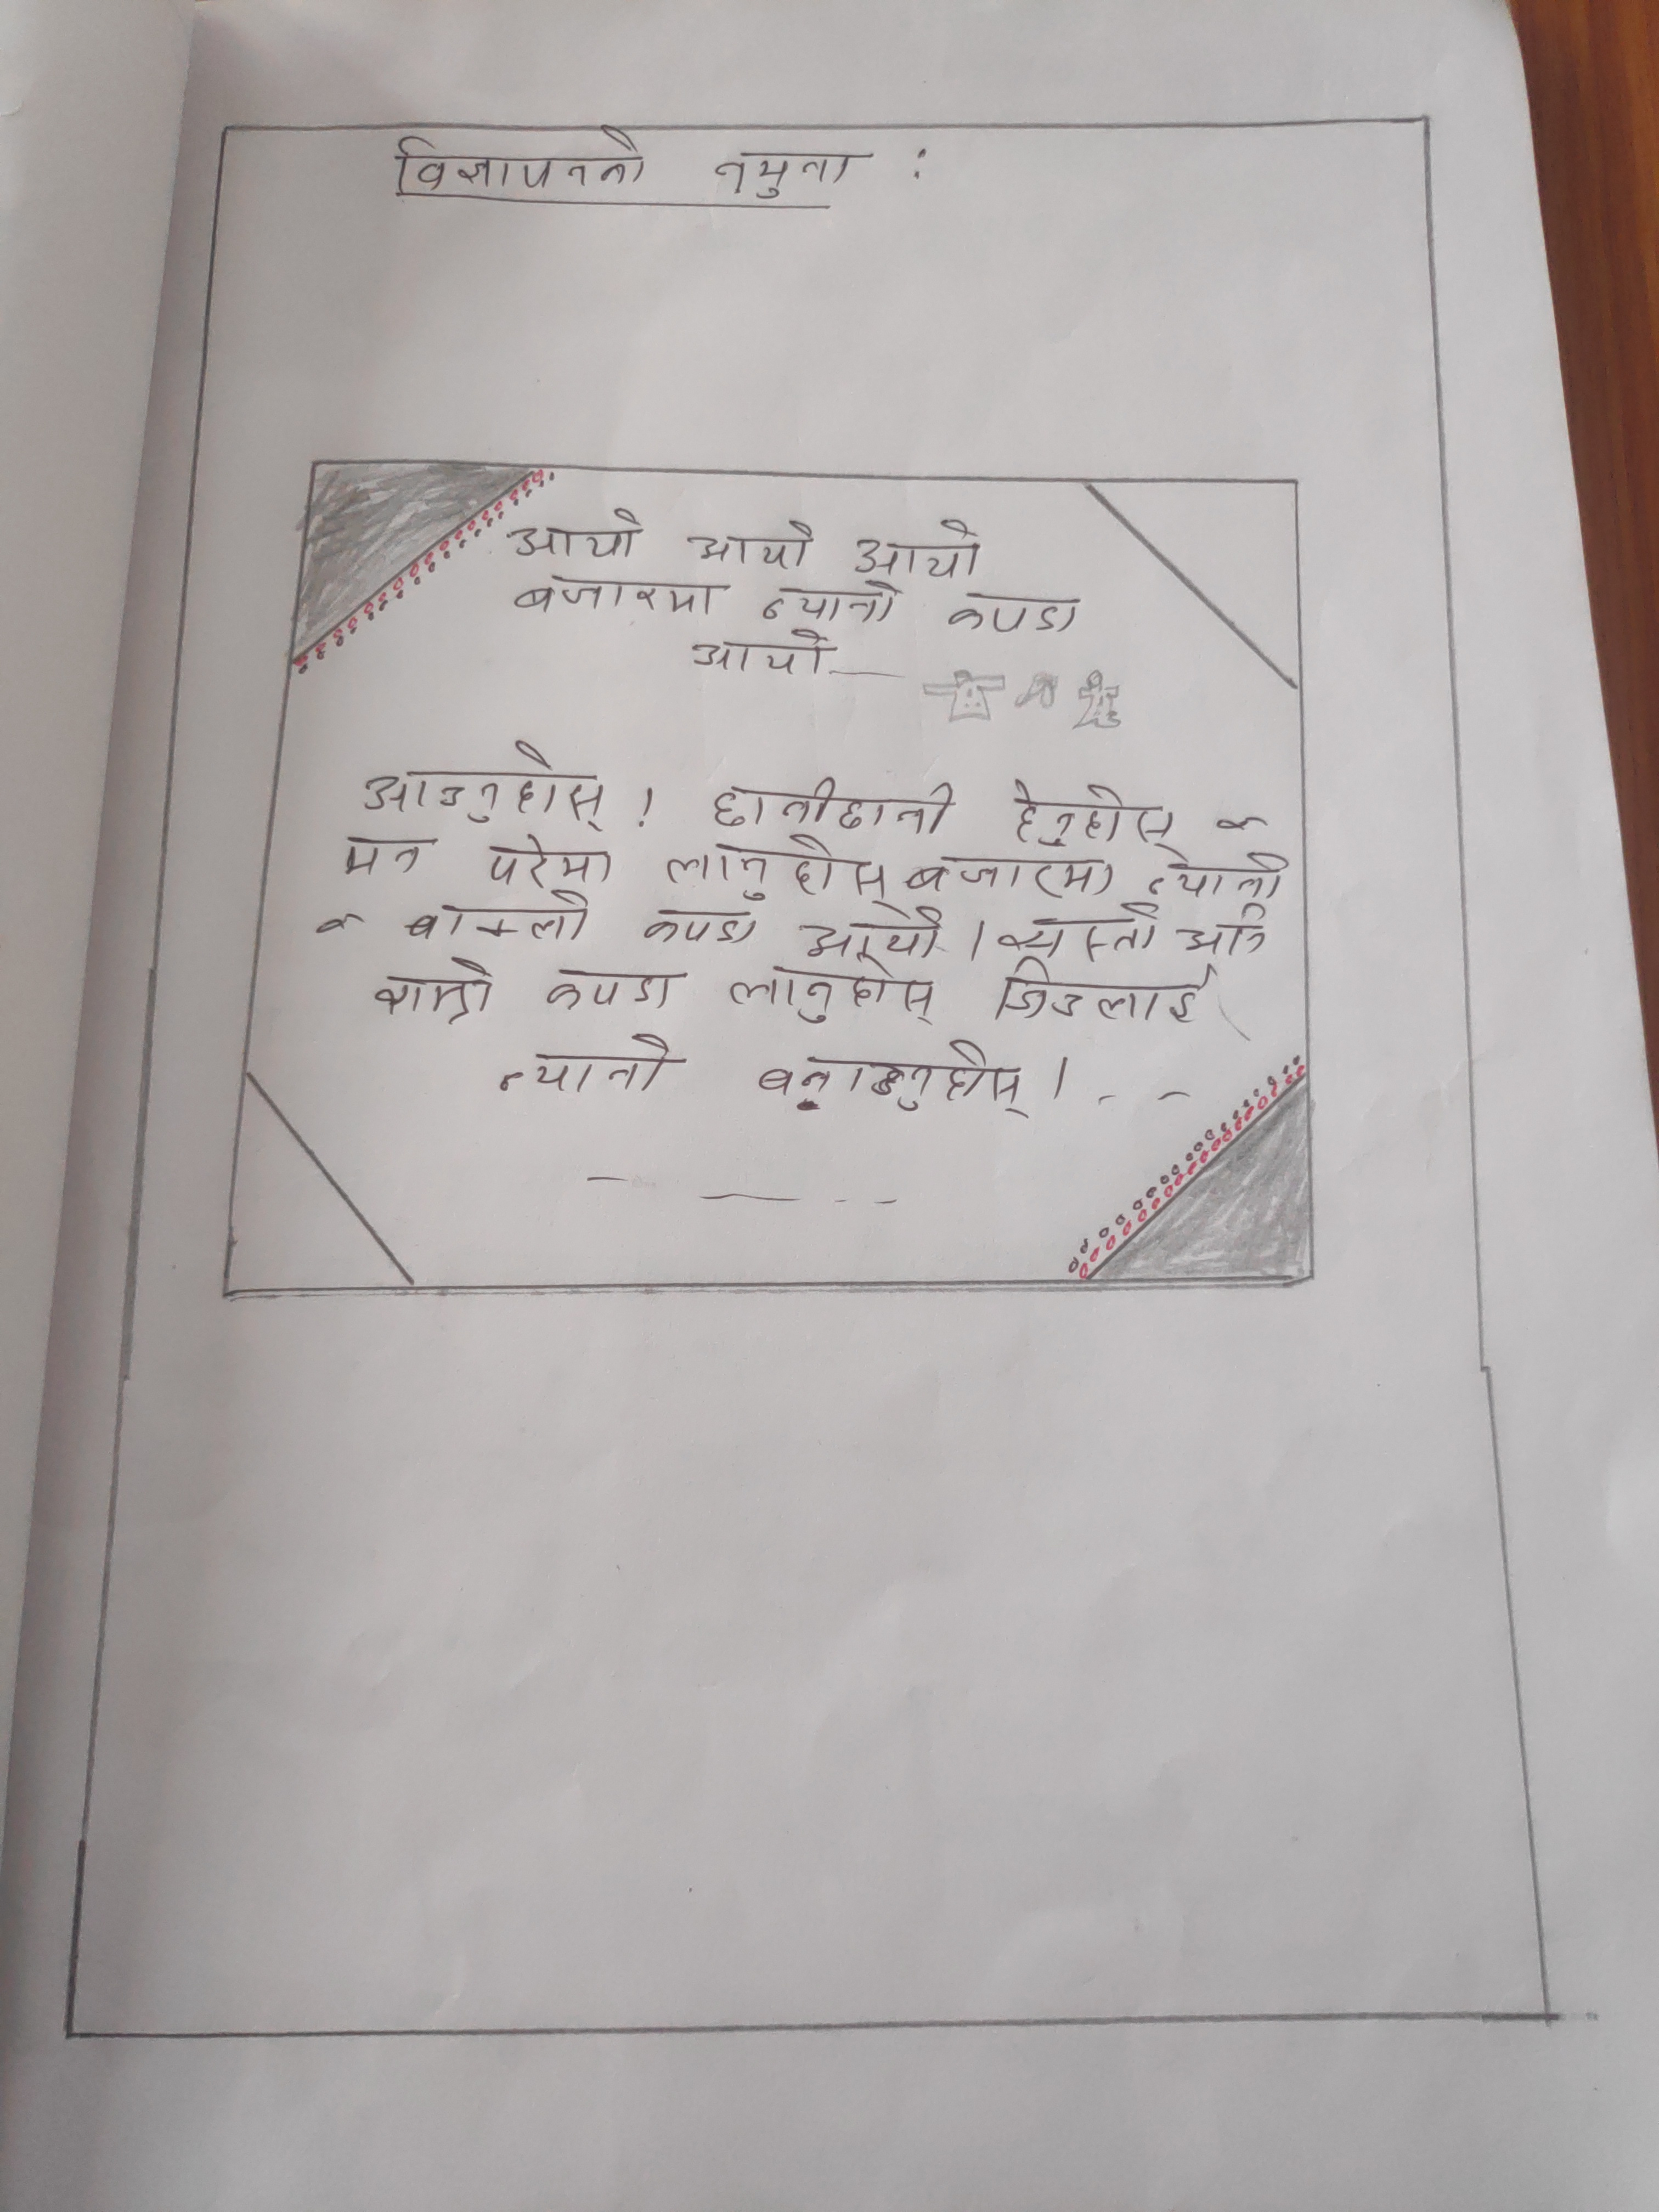text: (756, 1033, 1033, 1129), (361, 744, 617, 833), (394, 129, 650, 200), (711, 772, 955, 841), (716, 954, 946, 1024), (992, 963, 1218, 1033), (660, 841, 903, 906), (491, 1029, 683, 1101), (1002, 782, 1192, 852), (910, 845, 1124, 904), (403, 892, 598, 953), (505, 573, 727, 620), (995, 900, 1154, 963), (803, 900, 945, 965), (849, 517, 983, 583), (711, 145, 875, 199), (685, 625, 843, 681), (373, 963, 502, 1031), (1138, 846, 1290, 904), (634, 894, 762, 956), (476, 836, 627, 888), (758, 573, 904, 625), (504, 512, 652, 563), (934, 589, 1091, 636), (538, 963, 678, 1014), (1171, 897, 1279, 961), (685, 526, 823, 571), (342, 834, 432, 880)
